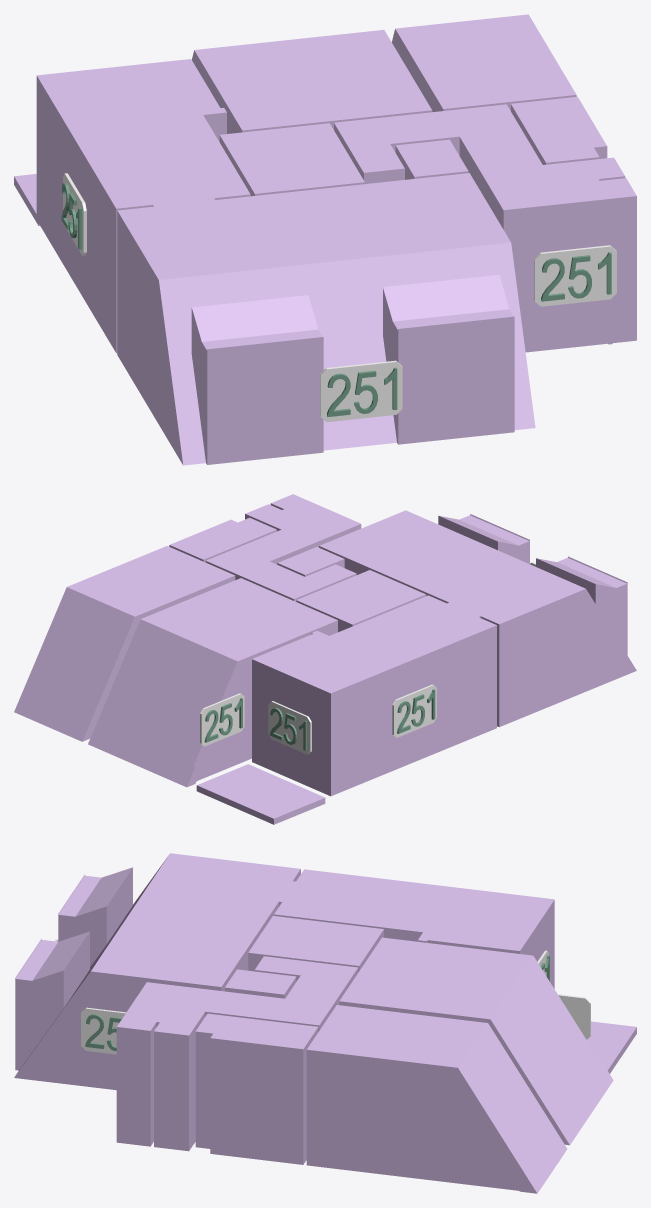
The picture shows the model from 3 angles, top to bottom: view 1: azimuth 30°, elevation 25°; view 2: azimuth 150°, elevation 25°; view 3: azimuth 270°, elevation 25°; orthographic projection. The views are drawn at different scales.
Parts seen in each view (by area): view 1: g_0, g_1, g_5, g_2, g_3, g_4, g_7, g_20, g_12, g_6, g_16, g_8; view 2: g_1, g_0, g_2, g_3, g_5, g_8, g_4, g_7, g_16, g_24, g_32, g_6; view 3: g_3, g_0, g_2, g_5, g_7, g_1, g_4, g_8, g_6, g_28, g_24.
Part boxes in pixels (x1=…): g_0: x1=117, y1=173, x2=535, y2=465; g_1: x1=36, y1=59, x2=250, y2=353; g_5: x1=334, y1=104, x2=636, y2=352; g_2: x1=192, y1=30, x2=432, y2=133; g_3: x1=392, y1=14, x2=576, y2=111; g_4: x1=219, y1=123, x2=364, y2=196; g_7: x1=511, y1=96, x2=607, y2=164; g_20: x1=534, y1=245, x2=616, y2=306; g_12: x1=320, y1=360, x2=402, y2=422; g_6: x1=395, y1=139, x2=468, y2=179; g_16: x1=63, y1=173, x2=86, y2=255; g_8: x1=14, y1=174, x2=39, y2=225; g_1: x1=252, y1=595, x2=496, y2=796; g_0: x1=319, y1=510, x2=636, y2=727; g_2: x1=88, y1=578, x2=337, y2=787; g_3: x1=14, y1=546, x2=235, y2=741; g_5: x1=205, y1=494, x2=361, y2=601; g_8: x1=196, y1=764, x2=325, y2=824; g_4: x1=296, y1=570, x2=426, y2=632; g_7: x1=169, y1=517, x2=276, y2=562; g_16: x1=392, y1=684, x2=436, y2=737; g_24: x1=200, y1=693, x2=244, y2=746; g_32: x1=268, y1=701, x2=311, y2=754; g_6: x1=277, y1=547, x2=344, y2=576; g_3: x1=306, y1=1005, x2=567, y2=1193; g_0: x1=14, y1=853, x2=300, y2=1090; g_2: x1=339, y1=937, x2=613, y2=1145; g_5: x1=116, y1=956, x2=358, y2=1151; g_7: x1=195, y1=1013, x2=318, y2=1164; g_1: x1=274, y1=869, x2=554, y2=988; g_4: x1=248, y1=916, x2=383, y2=972; g_8: x1=587, y1=1021, x2=636, y2=1073; g_6: x1=225, y1=969, x2=296, y2=998; g_28: x1=81, y1=1007, x2=126, y2=1054; g_24: x1=558, y1=994, x2=590, y2=1039.
Size of the model in its own units: 11.01 by 2.71 by 12.42.
